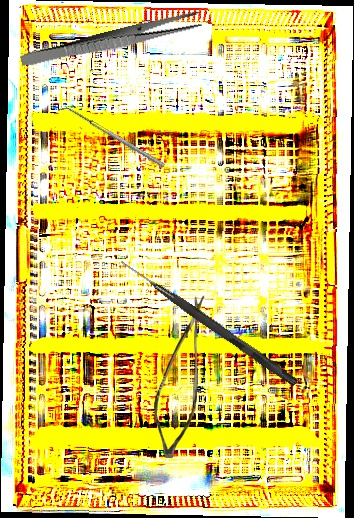Dressing Forceps: (19, 9, 203, 73)
Hook Surgical: (117, 258, 300, 387)
Micro Scissor: (154, 293, 205, 458)
Spatula Surgical: (57, 102, 166, 172)
